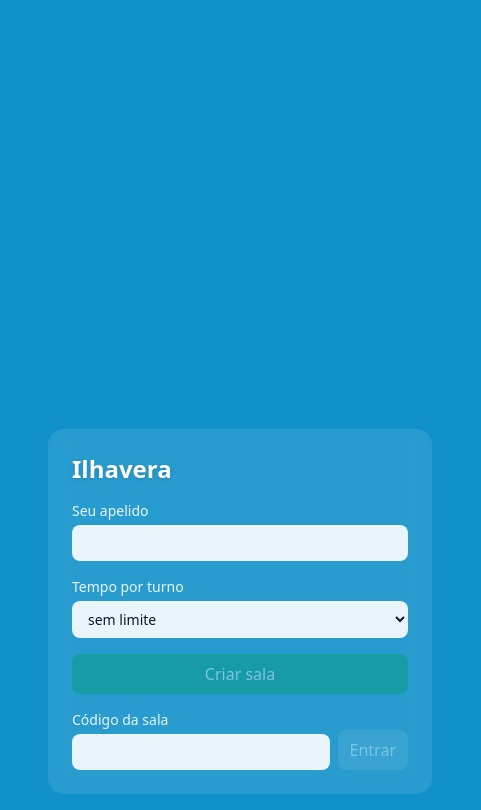
it: estado da conexão › avisa que caiu, sem tirar a tela do ar
This screenshot has width=481, height=810.
(page scrolled)
Type "Ana" into the field with test id "apelido". click: (240, 543)
box: [72,525,408,561]
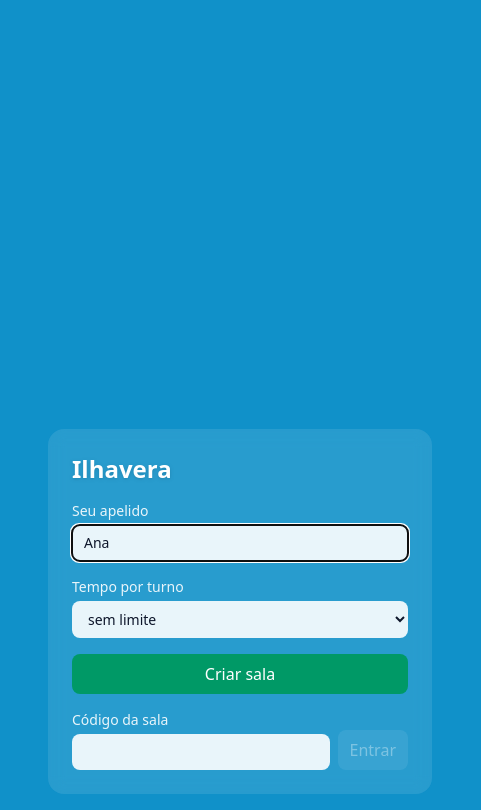
Click the button "Criar sala". click: (240, 674)
box: [72,654,408,694]
(page scrolled)
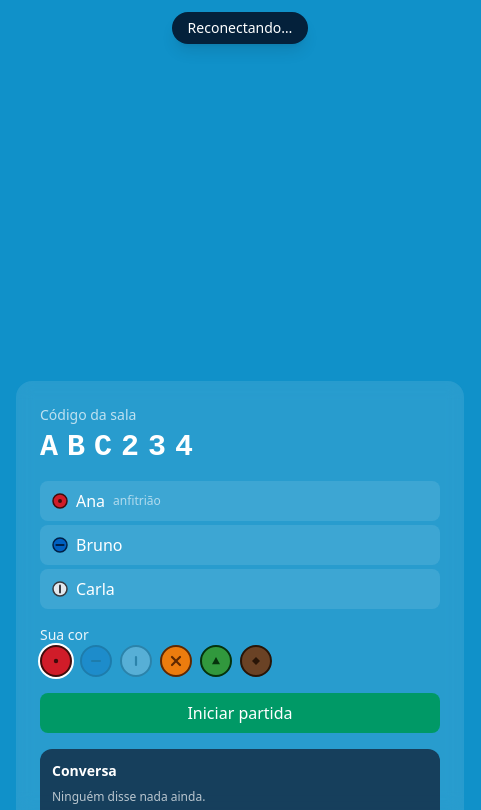
Now the message with test id "reconectando" reads "Reconectando…", box [188,18,292,37]
Now the text "ABC234" is shown, box [40,430,202,464]
